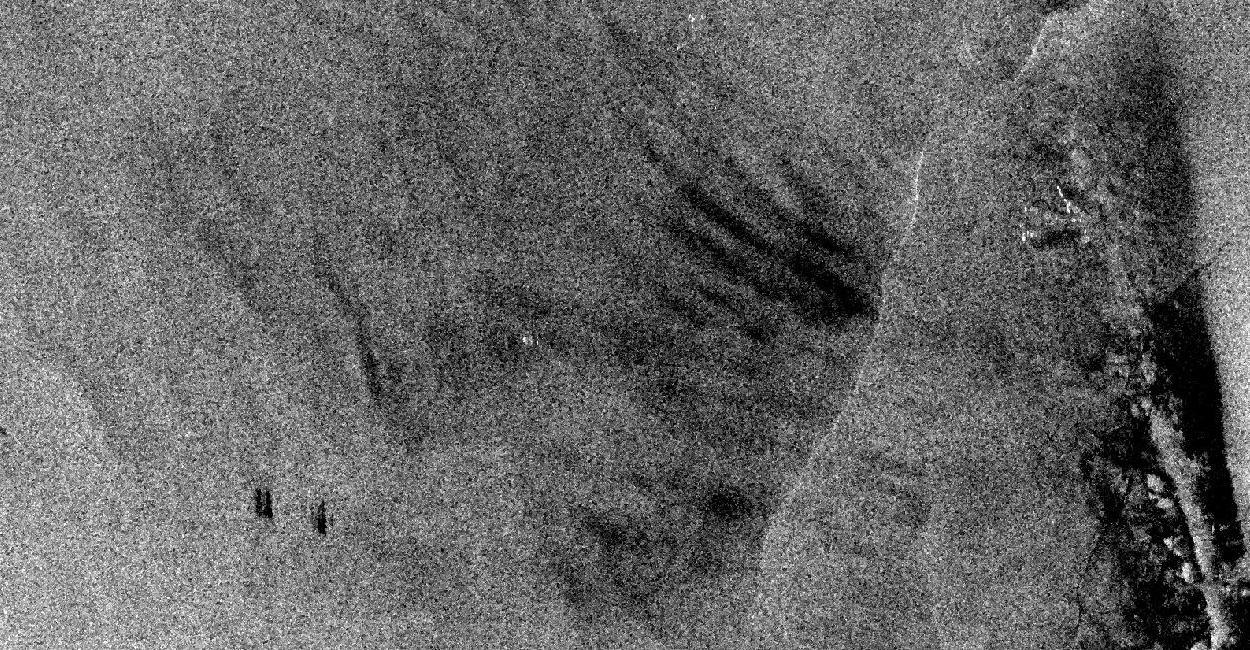Look-alike: (642, 172, 1250, 650)
Oil Spill: (253, 484, 274, 520), (312, 498, 328, 536), (262, 494, 264, 497)
